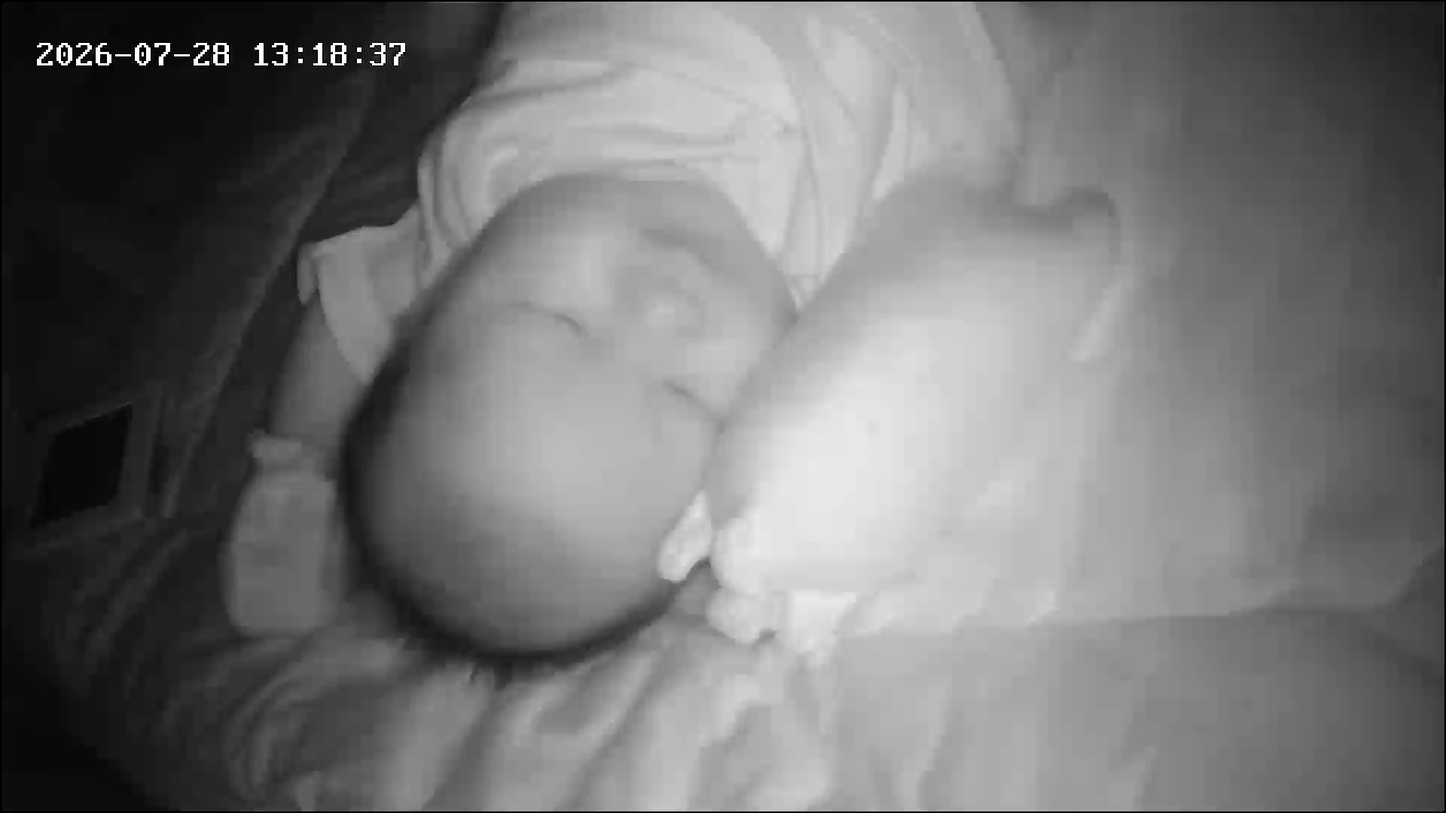baby: (319, 0, 961, 680)
baby_face: (331, 178, 813, 677)
